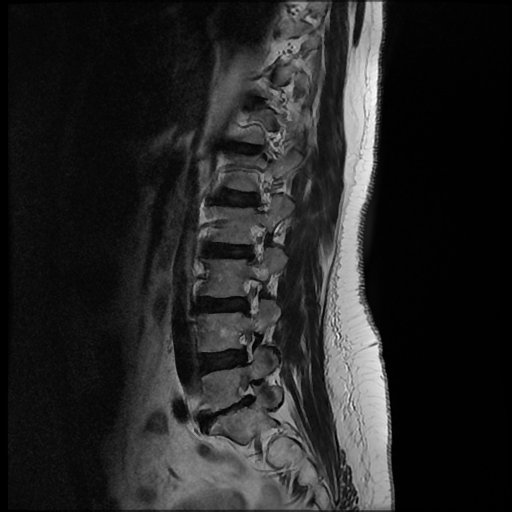RFS0: (229, 322, 267, 371), (233, 273, 268, 320), (228, 373, 263, 415)
